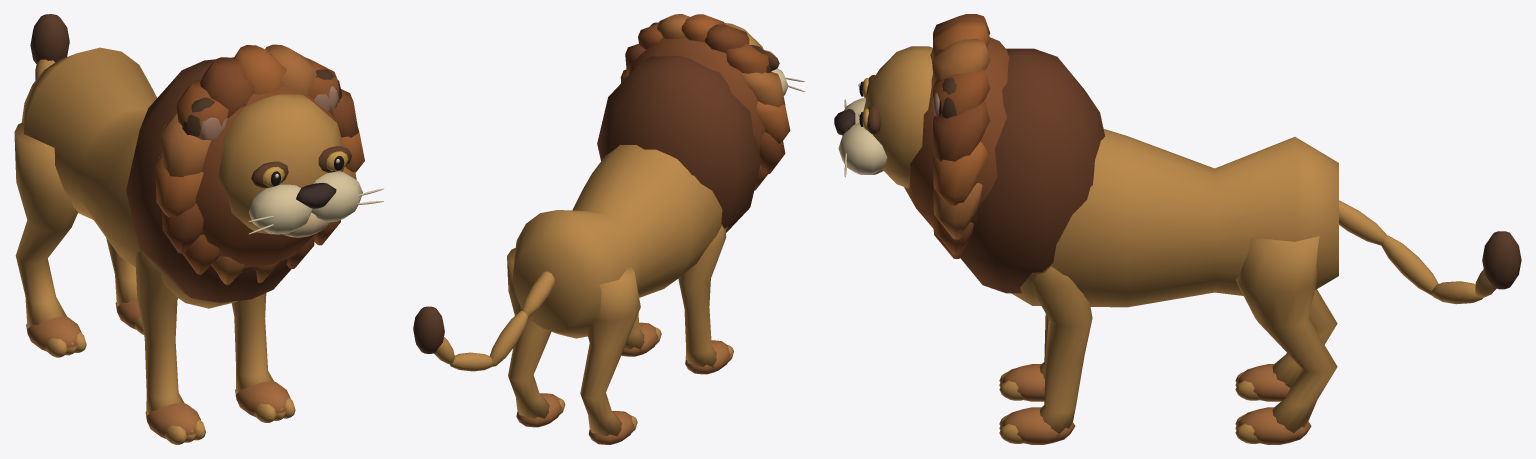
The model's file is lion_village.glb.
3 renders of one model, left to right at view 1: azimuth 30°, elevation 25°; view 2: azimuth 150°, elevation 25°; view 3: azimuth 270°, elevation 25°, orthographic. The views are drawn at different scales.
Parts seen in each view (by area): view 1: Body, HindL, ForeL, ForeR, Tail, HindR; view 2: Body, HindL, ForeL, Tail, HindR, ForeR; view 3: Body, HindR, ForeR, Tail, HindL, ForeL.
Part boxes in pixels (x1=…): Body: x1=21, y1=44, x2=383, y2=308; HindL: x1=14, y1=122, x2=86, y2=357; ForeL: x1=135, y1=250, x2=205, y2=444; ForeR: x1=231, y1=293, x2=295, y2=422; Tail: x1=30, y1=14, x2=69, y2=80; HindR: x1=106, y1=238, x2=143, y2=334; Body: x1=513, y1=14, x2=805, y2=338; HindL: x1=580, y1=265, x2=640, y2=444; ForeL: x1=678, y1=226, x2=733, y2=374; Tail: x1=413, y1=271, x2=554, y2=371; HindR: x1=507, y1=248, x2=565, y2=427; ForeR: x1=621, y1=313, x2=661, y2=356; Body: x1=834, y1=14, x2=1338, y2=307; HindR: x1=1235, y1=236, x2=1337, y2=444; ForeR: x1=999, y1=266, x2=1092, y2=444; Tail: x1=1339, y1=200, x2=1521, y2=304; HindL: x1=1235, y1=289, x2=1337, y2=401; ForeL: x1=999, y1=313, x2=1048, y2=401.
Bounding box in the file's own units: 0.9527 × 1.79 × 2.82.
